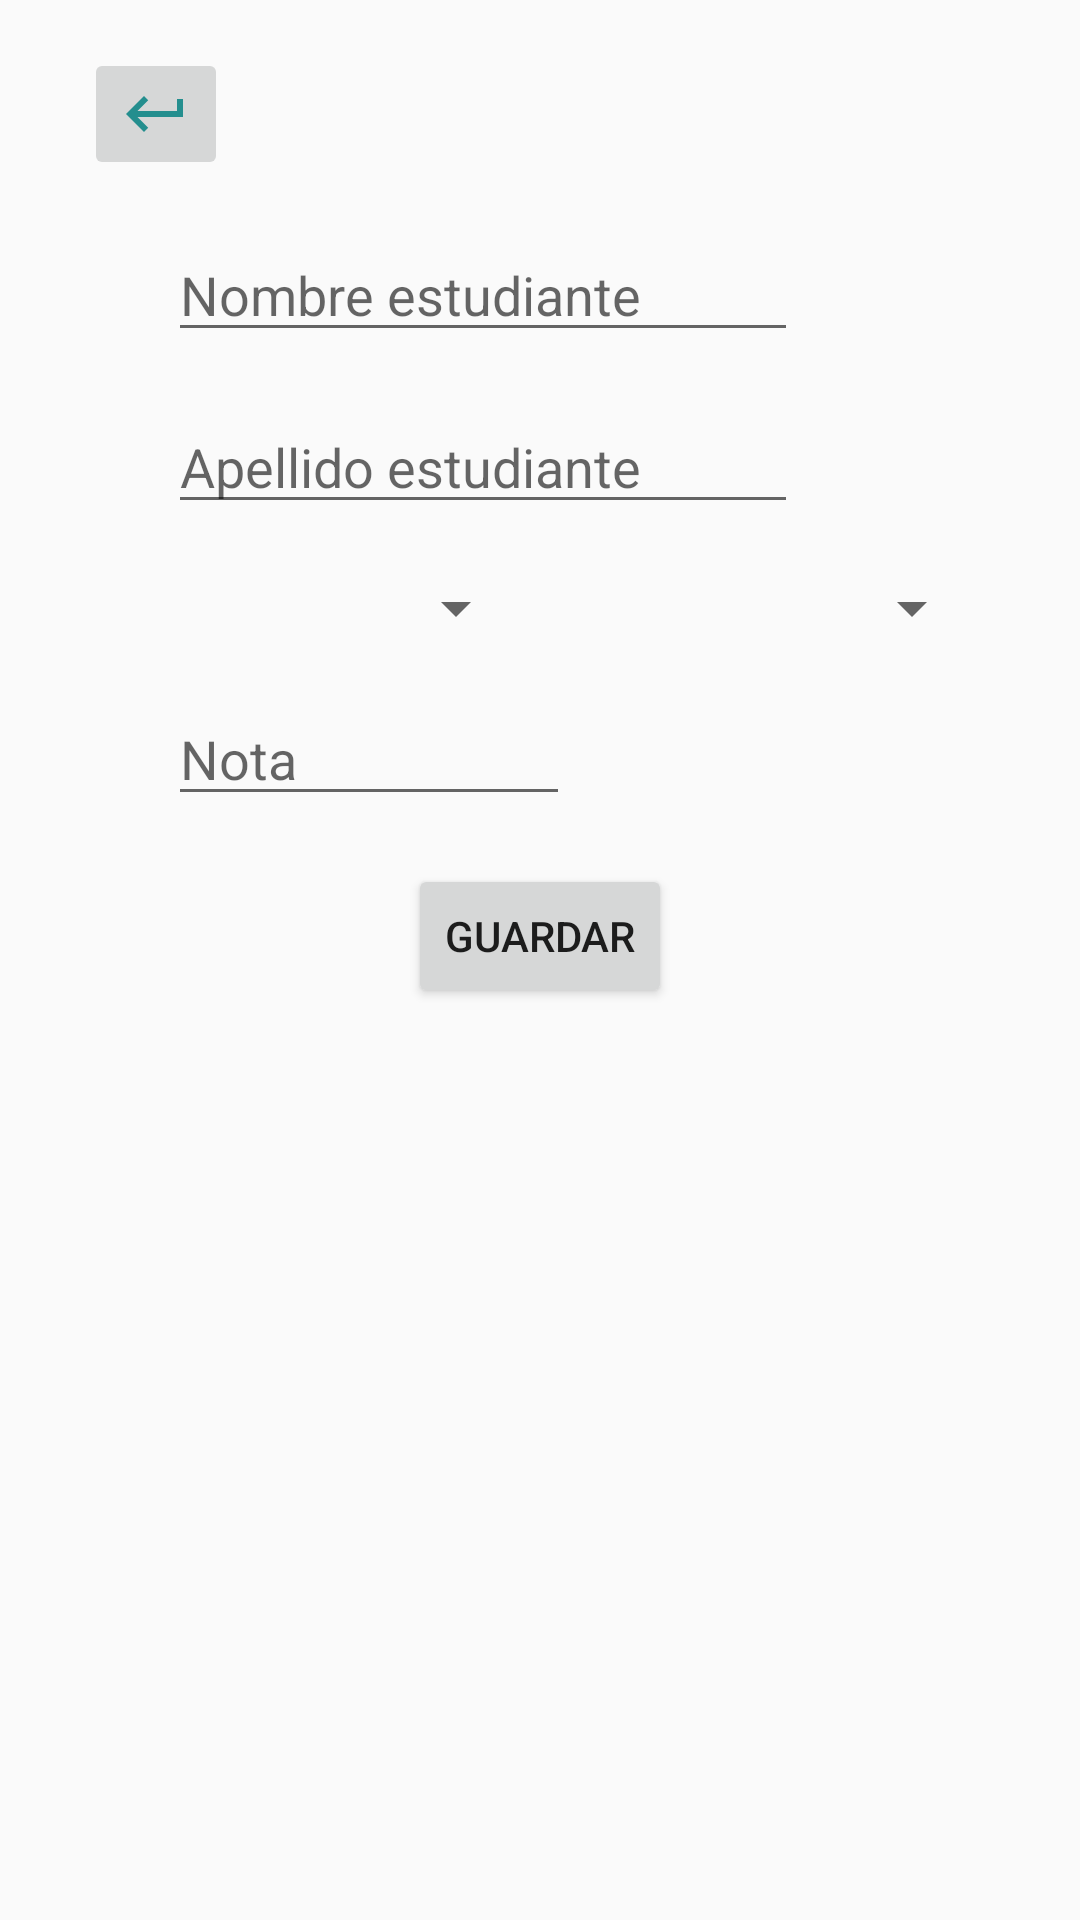

Icons on this 1080*1920 Android screen, each with its box as (x1, y1, x2, y2):
returnrow: (96, 66, 216, 162)
